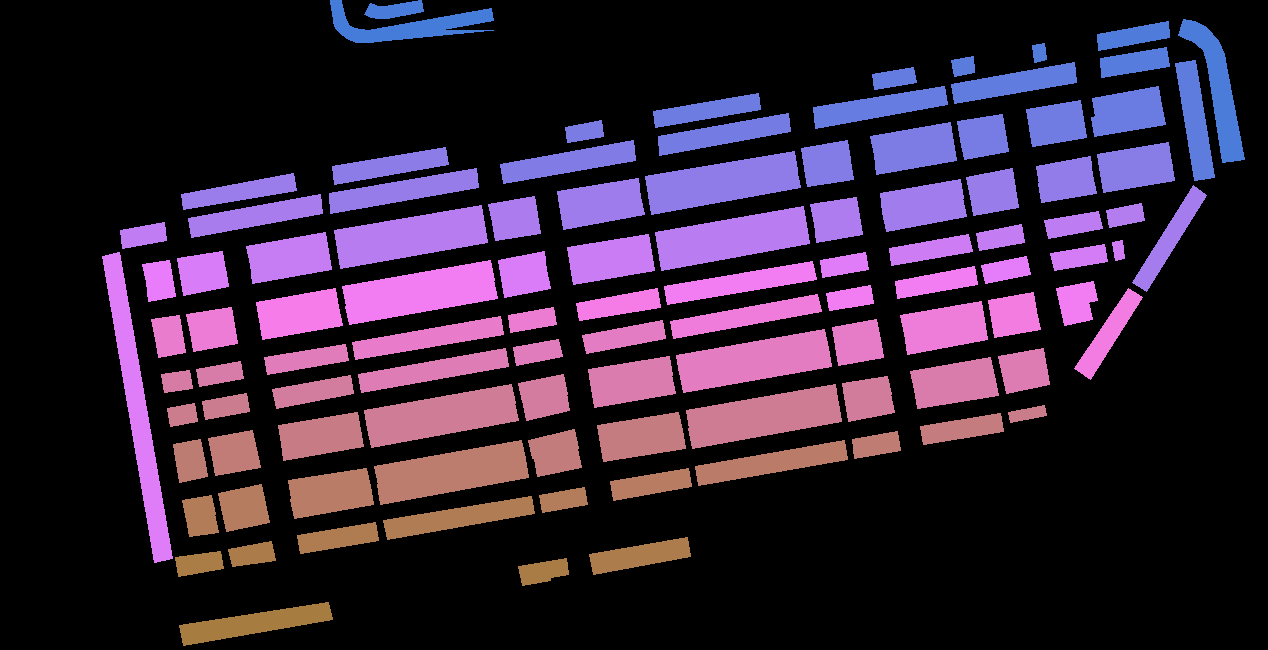parkingspot: (102, 252, 172, 562), (1178, 19, 1244, 162), (1132, 185, 1206, 291), (342, 260, 494, 306), (648, 168, 800, 214), (377, 458, 528, 504), (658, 224, 809, 270), (688, 403, 841, 448), (330, 0, 493, 42), (345, 279, 497, 324), (695, 440, 847, 485), (686, 384, 838, 429), (676, 329, 828, 374), (679, 347, 831, 392), (367, 402, 518, 447), (374, 440, 525, 485), (655, 206, 806, 251), (337, 223, 487, 268), (329, 168, 478, 213), (645, 151, 797, 195), (364, 384, 515, 428), (670, 294, 821, 338), (334, 205, 484, 249), (358, 348, 508, 392), (179, 602, 332, 645), (664, 261, 816, 304), (352, 316, 503, 359), (383, 496, 534, 539), (1074, 288, 1142, 379), (500, 140, 635, 183), (188, 194, 322, 237), (813, 86, 947, 128), (658, 113, 790, 155), (951, 62, 1076, 103), (1175, 60, 1214, 180), (332, 147, 448, 184), (181, 173, 296, 209), (589, 537, 690, 574), (653, 93, 760, 127), (904, 319, 987, 354), (882, 197, 966, 231), (560, 196, 644, 229), (588, 356, 672, 389), (591, 374, 675, 407), (914, 375, 998, 408), (910, 357, 994, 390), (900, 301, 984, 334), (259, 306, 342, 339), (557, 178, 640, 211), (582, 320, 665, 353), (870, 122, 953, 155), (880, 179, 963, 212), (597, 412, 682, 444), (600, 429, 685, 461), (246, 232, 328, 265), (256, 288, 338, 321), (874, 141, 956, 174), (567, 234, 651, 266), (570, 252, 654, 284), (576, 288, 660, 320), (272, 375, 353, 408), (290, 486, 373, 518), (278, 412, 360, 444), (895, 266, 977, 298), (250, 251, 331, 283), (610, 468, 691, 500), (920, 413, 1003, 444), (889, 234, 972, 265), (288, 468, 370, 499), (281, 429, 363, 460), (264, 344, 348, 374), (297, 522, 378, 553), (1097, 142, 1171, 174), (1100, 160, 1174, 192), (1091, 104, 1165, 136), (1092, 86, 1161, 117), (1097, 21, 1169, 50), (1100, 47, 1169, 77), (1038, 174, 1096, 202), (1029, 118, 1086, 146), (1026, 100, 1083, 128), (1036, 156, 1092, 184), (1044, 211, 1102, 238), (1050, 244, 1107, 270), (528, 429, 578, 458), (966, 168, 1015, 197), (501, 269, 550, 297), (518, 374, 567, 402), (845, 393, 894, 421), (801, 140, 850, 168), (218, 484, 265, 513), (518, 558, 568, 585), (208, 430, 256, 458), (498, 251, 546, 279), (842, 376, 891, 403), (981, 256, 1030, 283), (810, 197, 859, 224), (222, 503, 269, 531), (534, 448, 581, 476), (180, 268, 228, 295), (212, 448, 260, 475), (832, 319, 880, 346), (835, 338, 883, 365), (852, 431, 900, 458), (998, 348, 1046, 375), (988, 292, 1036, 319), (814, 215, 862, 242), (970, 188, 1018, 215), (960, 132, 1008, 159), (513, 339, 562, 365), (488, 196, 537, 222), (991, 311, 1040, 337), (804, 160, 853, 186), (190, 324, 237, 351), (522, 393, 569, 420), (1002, 366, 1049, 393), (177, 251, 225, 277), (186, 307, 234, 333), (492, 214, 540, 240), (976, 224, 1024, 250), (957, 114, 1005, 140), (202, 393, 249, 419), (175, 551, 223, 576), (508, 307, 556, 332), (539, 487, 587, 512), (820, 252, 868, 277), (120, 222, 166, 248), (196, 361, 243, 386), (228, 541, 275, 566), (826, 285, 873, 310), (1056, 281, 1097, 307), (364, 0, 423, 18), (872, 67, 916, 89), (1106, 203, 1144, 227), (565, 120, 603, 142), (182, 495, 215, 520), (173, 439, 204, 464), (1060, 301, 1092, 325), (151, 315, 182, 339), (176, 458, 207, 482), (186, 513, 218, 536), (155, 333, 185, 357), (167, 403, 197, 426), (161, 370, 192, 392), (146, 278, 175, 301), (142, 260, 172, 282), (1008, 405, 1046, 422), (951, 56, 974, 76), (1032, 43, 1046, 62), (1112, 240, 1124, 260)
